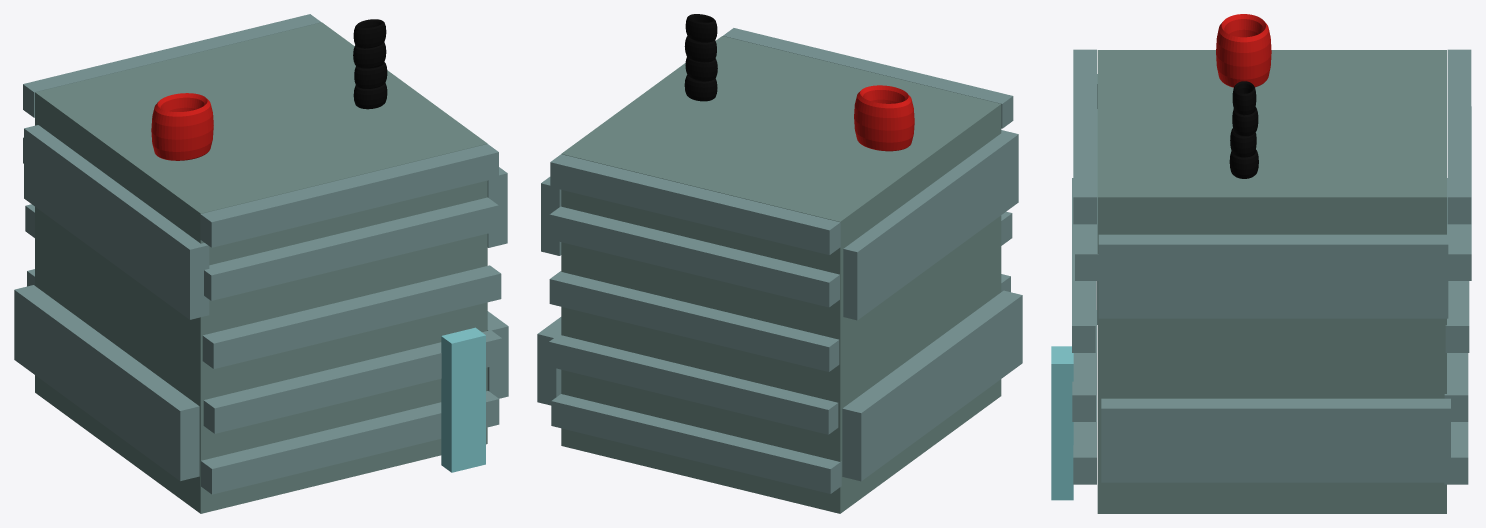
The model's file is transformer.fbx.
The picture shows the model from 3 angles, left to right: view 1: azimuth 30°, elevation 25°; view 2: azimuth 150°, elevation 25°; view 3: azimuth 270°, elevation 25°; orthographic projection. The views are drawn at different scales.
Parts seen in each view (by area): view 1: Cube.002, Cube.013, Cube.012, Cube.005, Cube.010, Cube.007, Cube.008, Cube.009, Cube.003, Torus.004, Cube.014, Cube.011 (+5 smaller); view 2: Cube.002, Cube.013, Cube.012, Cube.015, Cube.014, Cube.016, Cube.018, Cube.017, Cube.010, Torus.004, Cube.011, Cube.006 (+4 smaller); view 3: Cube.002, Cube.006, Cube.011, Cube.014, Cube.010, Torus.004, Cube.003, Cube.005, Cube.016, Cube.008, Cube.009, Cube.015 (+7 smaller).
Boxes of the visible parts, bbox=[...] form: Cube.002: bbox=[35, 22, 487, 513]; Cube.013: bbox=[14, 285, 199, 481]; Cube.012: bbox=[24, 125, 209, 319]; Cube.005: bbox=[202, 265, 501, 368]; Cube.010: bbox=[200, 144, 498, 247]; Cube.007: bbox=[204, 197, 498, 300]; Cube.008: bbox=[203, 330, 502, 433]; Cube.009: bbox=[201, 391, 499, 494]; Cube.003: bbox=[441, 327, 485, 472]; Torus.004: bbox=[151, 93, 213, 160]; Cube.014: bbox=[23, 14, 321, 117]; Cube.011: bbox=[487, 311, 508, 398]; Cube.002: bbox=[561, 36, 1001, 513]; Cube.013: bbox=[842, 290, 1022, 481]; Cube.012: bbox=[843, 130, 1018, 320]; Cube.015: bbox=[549, 206, 839, 307]; Cube.014: bbox=[550, 154, 840, 254]; Cube.016: bbox=[549, 271, 839, 371]; Cube.018: bbox=[551, 394, 841, 493]; Cube.017: bbox=[549, 334, 838, 434]; Cube.010: bbox=[723, 28, 1013, 128]; Torus.004: bbox=[854, 85, 914, 151]; Cube.011: bbox=[537, 317, 561, 405]; Cube.006: bbox=[541, 177, 561, 255]; Cube.002: bbox=[1097, 50, 1446, 513]; Cube.006: bbox=[1098, 234, 1448, 318]; Cube.011: bbox=[1101, 398, 1450, 482]; Cube.014: bbox=[1447, 49, 1471, 224]; Cube.010: bbox=[1073, 49, 1096, 224]; Torus.004: bbox=[1216, 14, 1271, 87]; Cube.003: bbox=[1051, 346, 1073, 500]; Cube.005: bbox=[1072, 178, 1095, 352]; Cube.016: bbox=[1445, 178, 1469, 352]; Cube.008: bbox=[1072, 281, 1095, 421]; Cube.009: bbox=[1073, 310, 1096, 484]; Cube.015: bbox=[1448, 106, 1471, 280].
Size of the model in its own units: 536 by 590 by 560.
